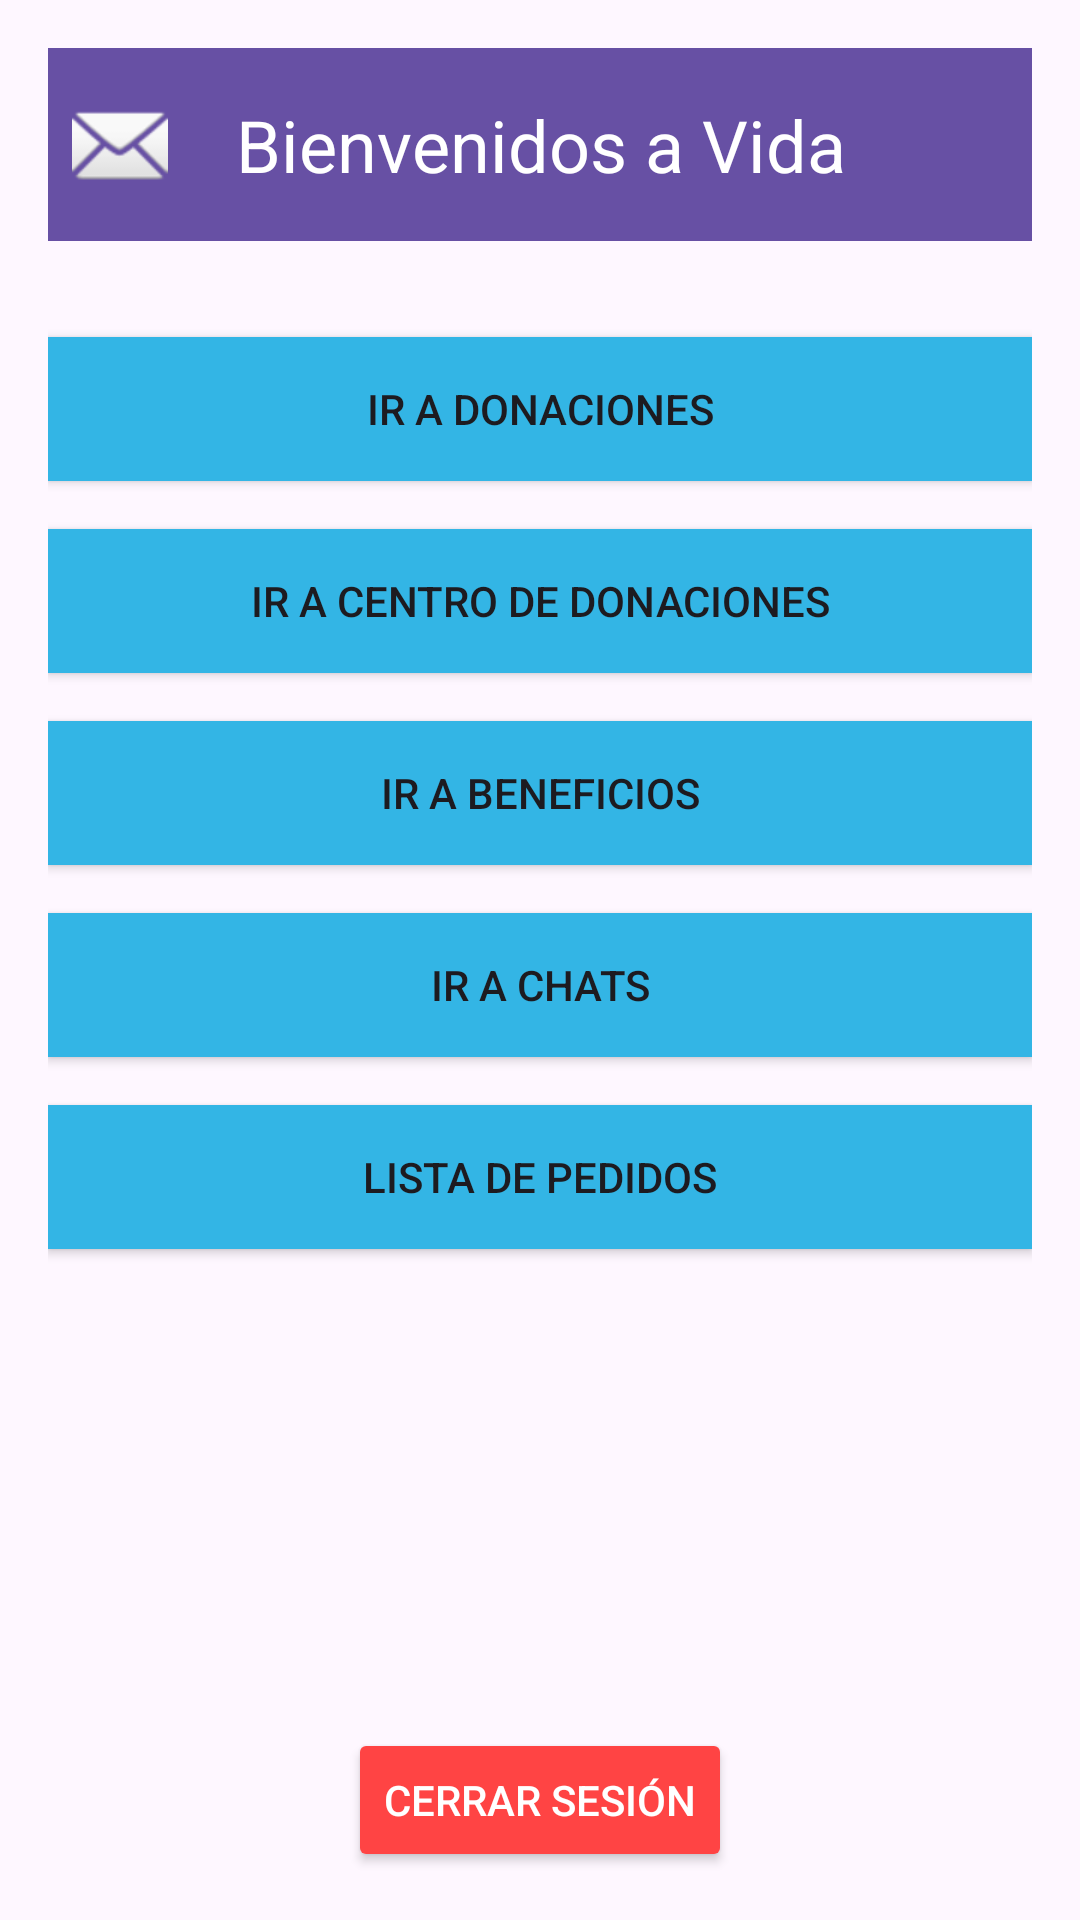

Screen size 1080 x 1920. Icon name, then its box in pixels as (x1, y1, x2, y2):
Notificaciones: (72, 112, 168, 180)
